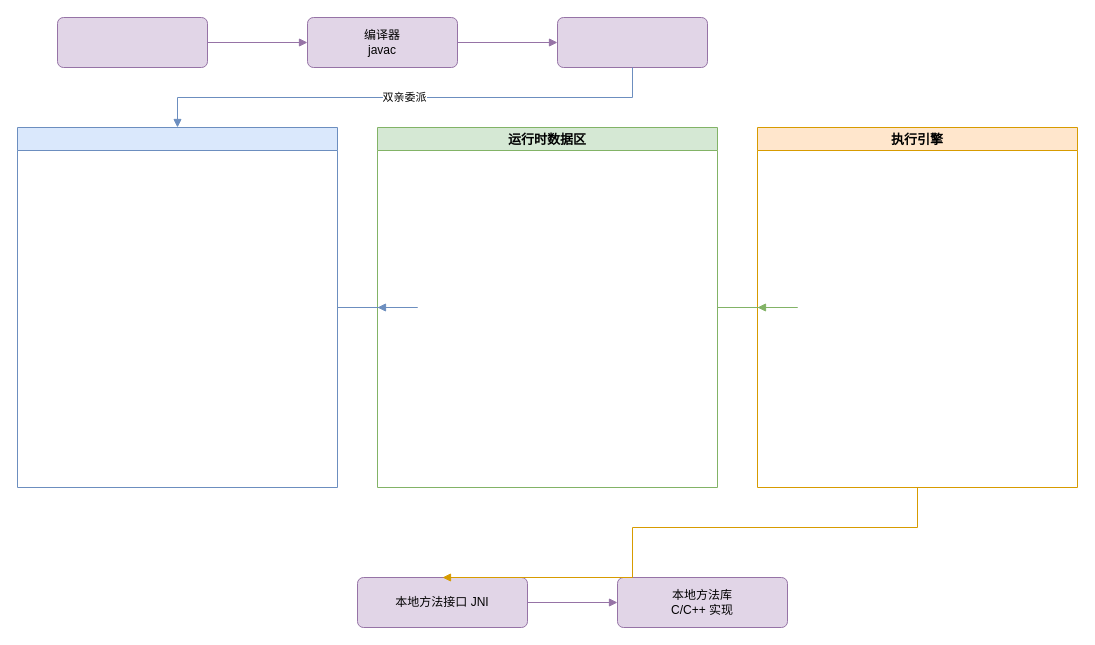
This 1095x645 diagram has some shape labels left out. Here are the shapes that lost their labels. From the top down, the centre of each, then its label:
At (x=132, y=42): "Java 源码 .java".
At (x=632, y=42): "字节码 .class 文件".
At (x=177, y=307): "类加载子系统".
